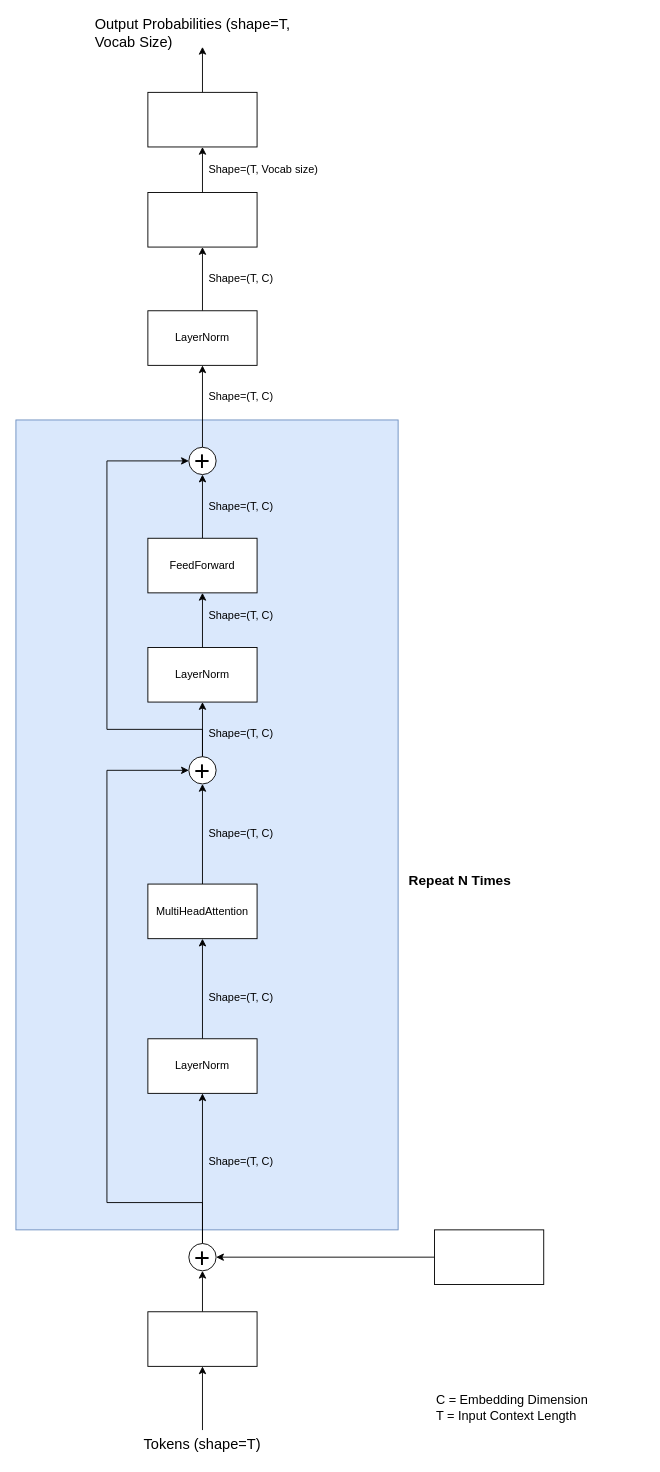
Image size: 660x1472. Some labels were removed from this diagram. Here are the shapes that lost their labels. From the top down, the centre of each, then its label:
point (202, 119): Softmax
point (202, 219): Linear
point (489, 1256): Positional Encoding
point (202, 1338): Embedding
